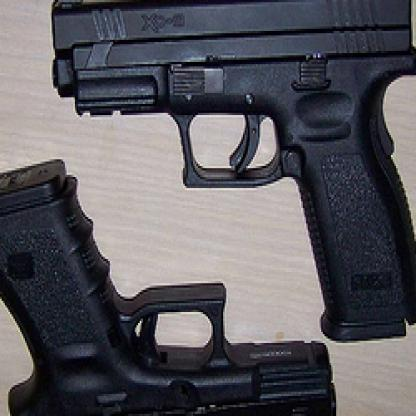gun: (33, 0, 415, 359), (0, 152, 351, 414)
